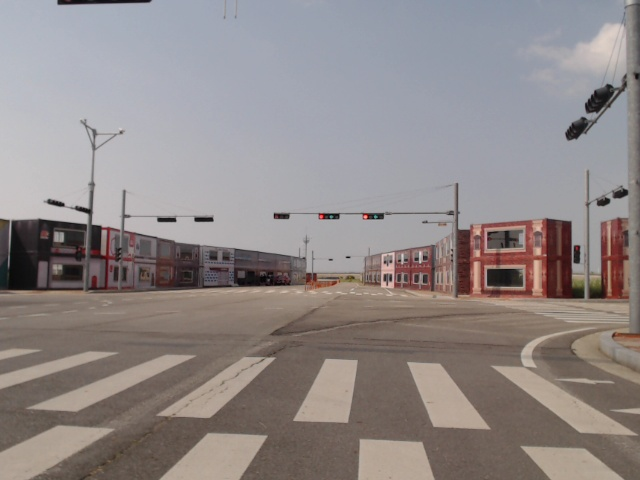left_green_4: (364, 213, 383, 219), (319, 214, 339, 219)
